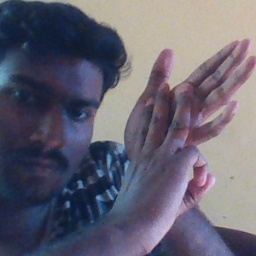M: (122, 36, 256, 213)
